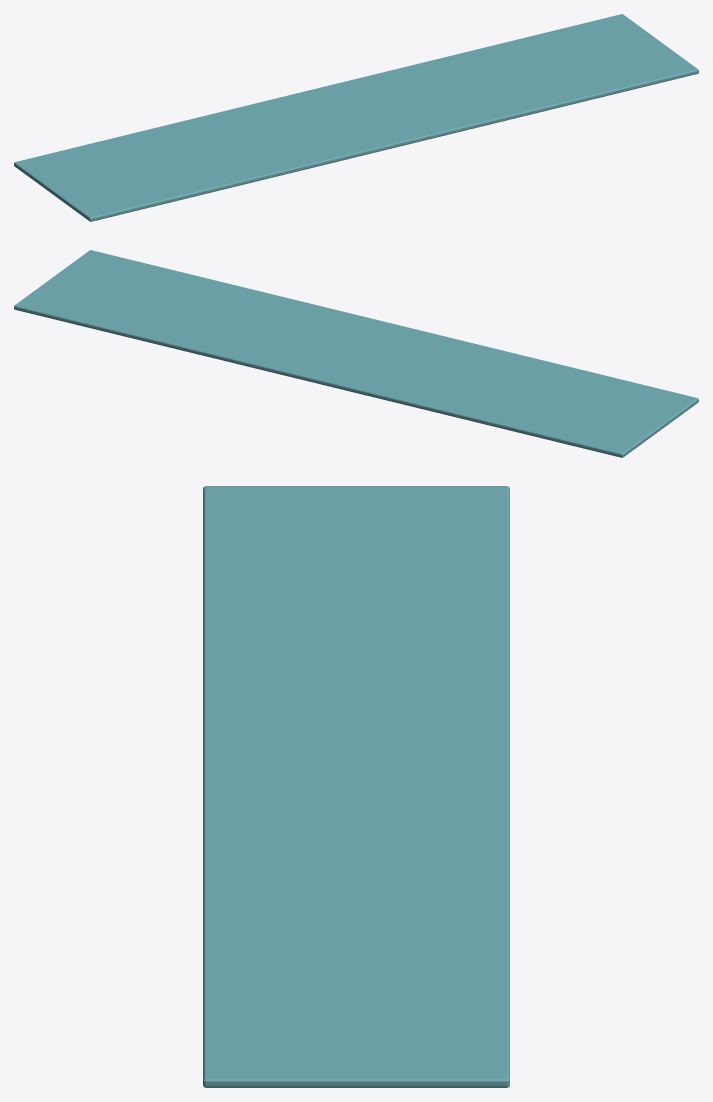
File: water_straight.glb
The picture shows the model from 3 angles, top to bottom: view 1: azimuth 30°, elevation 25°; view 2: azimuth 150°, elevation 25°; view 3: azimuth 270°, elevation 25°; orthographic projection. The views are drawn at different scales.
Visible parts, largest first — view 1: water_straight; view 2: water_straight; view 3: water_straight.
Boxes of the visible parts, x1=… form: water_straight: x1=14, y1=14, x2=698, y2=221; water_straight: x1=14, y1=250, x2=698, y2=457; water_straight: x1=203, y1=486, x2=509, y2=1087.
Bounding box in the file's own units: 1 × 0.007 × 0.218.
